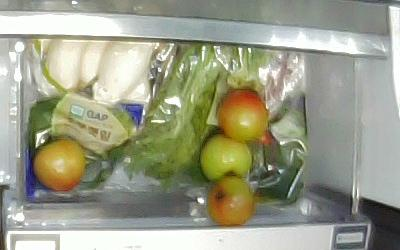tomato: (32, 138, 84, 190), (200, 132, 252, 180), (221, 90, 268, 141), (208, 178, 253, 226)
